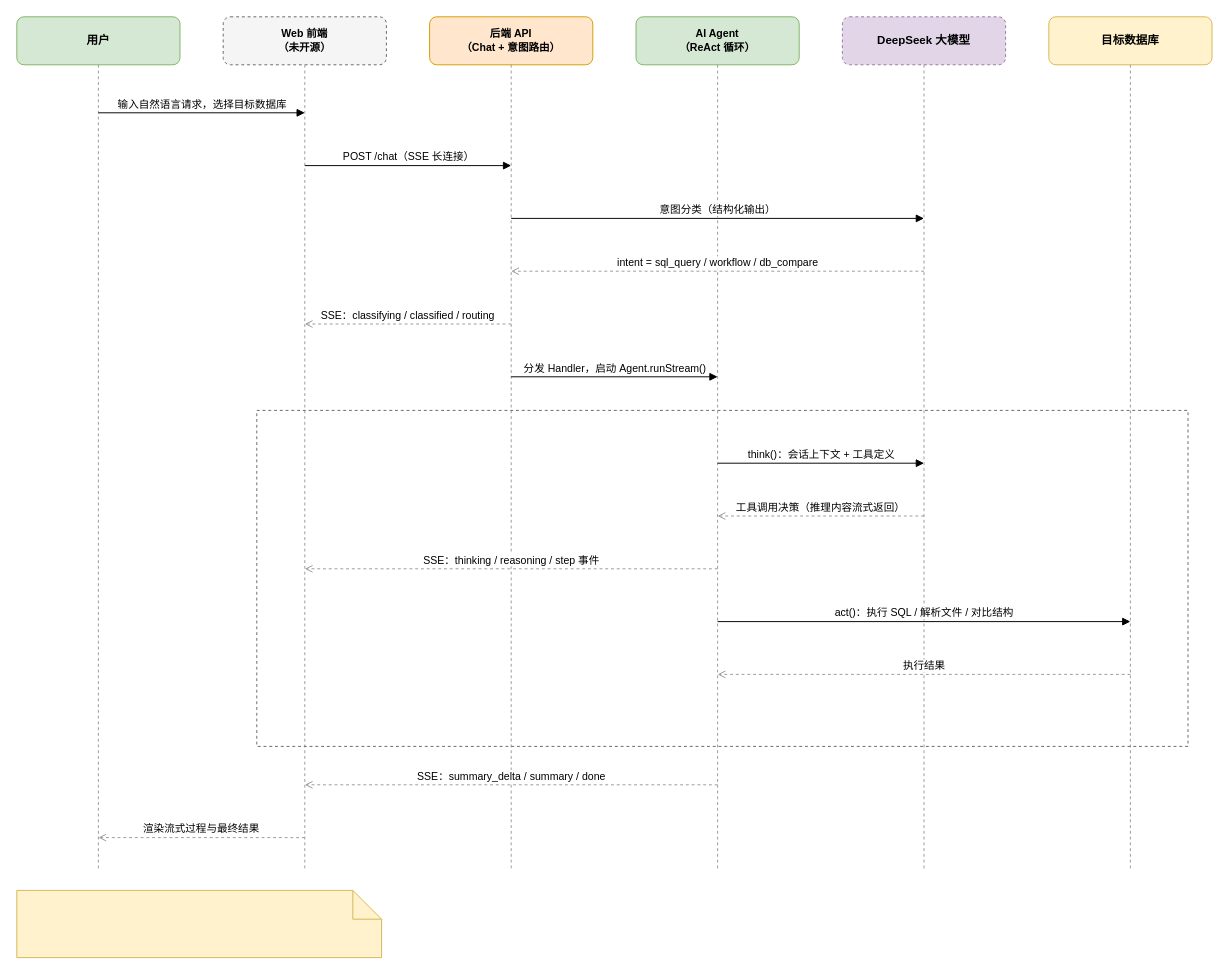
Image size: 1229x974. Some labels were removed from this diagram. The shapes that lost their labels are listed below. From the top down, each one's centre as x and y in pixels, then its label:
At point 722,577: "loop ReAct 循环（直至任务完成或达到最大步数）".
At point 199,923: "注：每一步的消息、推理内容与工具调用 都会持久化到 PostgreSQL（系统库）。".
